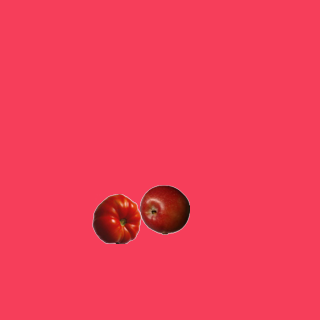Apple Braeburn: (139, 184, 189, 234)
Tomato 3: (91, 193, 141, 243)
